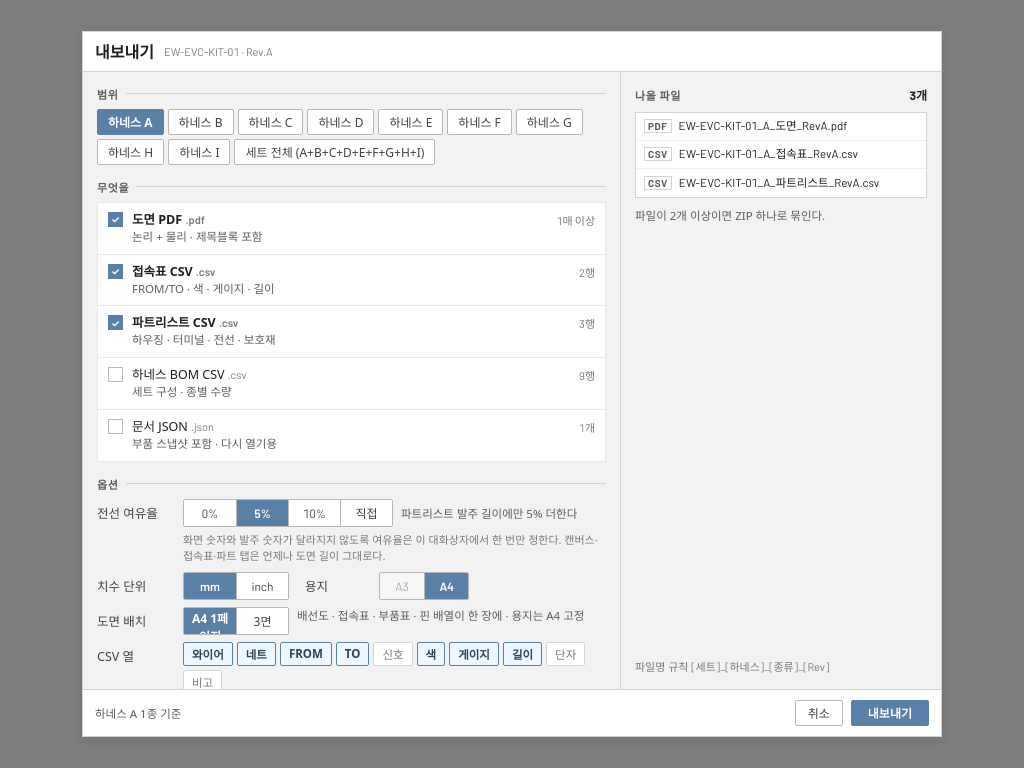
Scenario: 내보내기 옵션이 산출물에 반영된다 › 1페이지 배치에서는 A3 를 고를 수 없다
The image size is (1024, 768).
Expected: the button "A3" is disabled, [380, 573, 424, 599]
Step 1. Click the button "3면" → (262,621), box [236, 608, 288, 634]
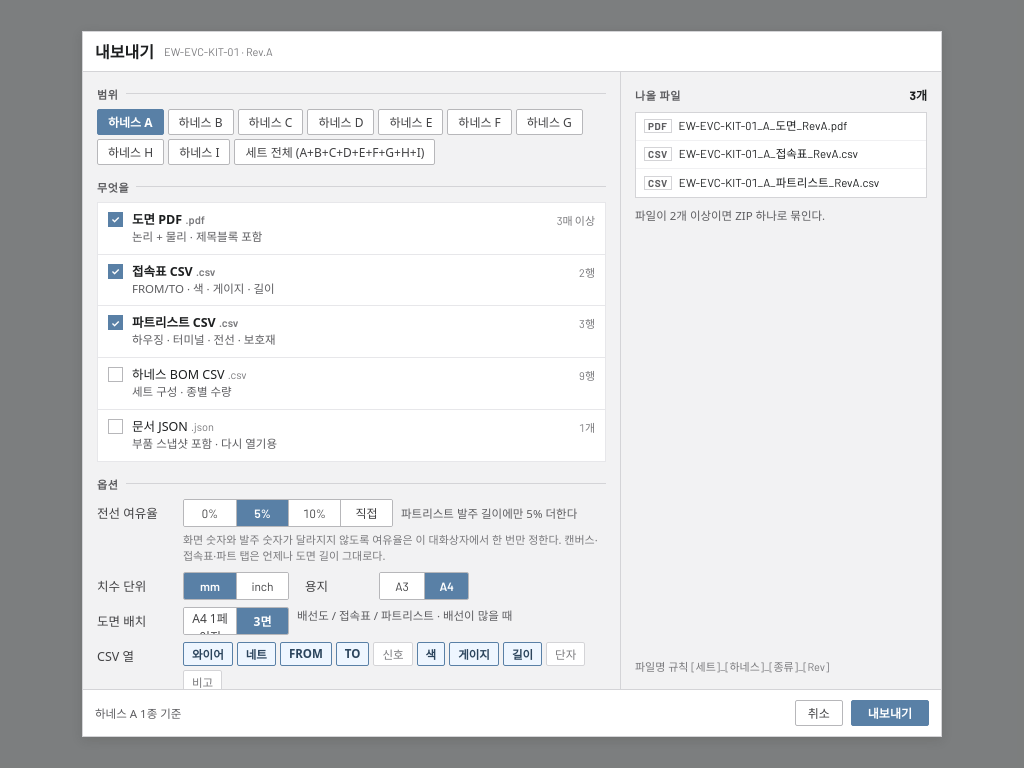
Result: the button "A3" is enabled at [380, 573, 424, 599]
